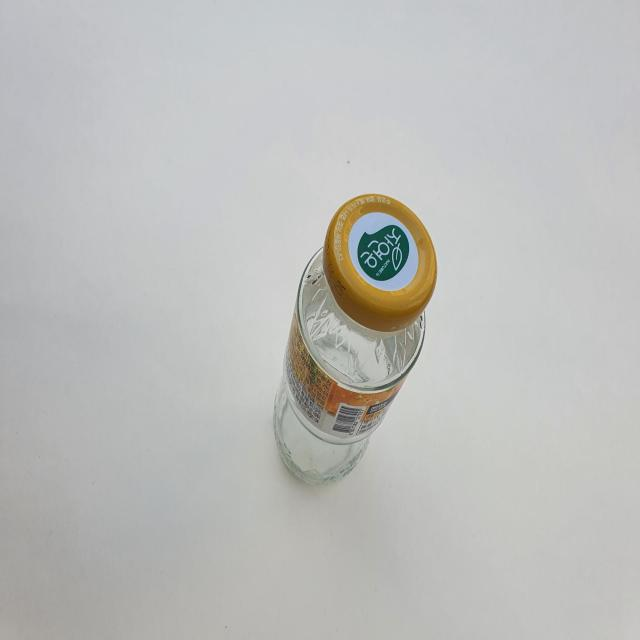glass: (275, 192, 437, 483)
